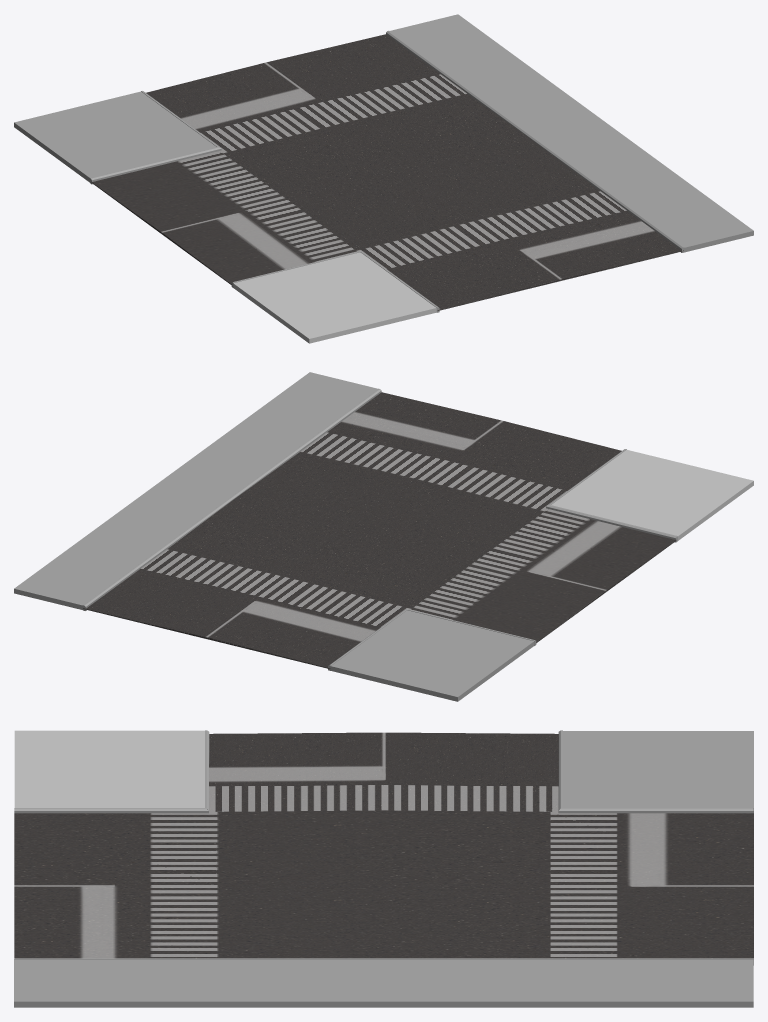
The model's file is t intersection.fbx.
3 renders of one model, top to bottom at view 1: azimuth 30°, elevation 25°; view 2: azimuth 150°, elevation 25°; view 3: azimuth 270°, elevation 25°, orthographic. The views are drawn at different scales.
Parts seen in each view (by area): view 1: Road, side_walk6 (×2), straight_road_segment:side_walk5, Road5, straight_road_segment:curb, curb1; view 2: Road, side_walk6 (×2), straight_road_segment:side_walk5, Road5, straight_road_segment:curb, curb; view 3: Road, straight_road_segment:side_walk5, side_walk6 (×2), Road5, straight_road_segment:curb, curb, curb1.
Boxes of the visible parts, left/top/right/bottom form: Road: left=146, top=34, right=683, bottom=310; side_walk6 (×2): left=14, top=91, right=436, bottom=343; straight_road_segment:side_walk5: left=390, top=14, right=753, bottom=252; Road5: left=91, top=151, right=356, bottom=284; straight_road_segment:curb: left=386, top=30, right=684, bottom=252; curb1: left=90, top=147, right=221, bottom=184; Road: left=83, top=392, right=621, bottom=668; side_walk6 (×2): left=330, top=450, right=753, bottom=701; straight_road_segment:side_walk5: left=14, top=372, right=378, bottom=609; Road5: left=411, top=509, right=676, bottom=643; straight_road_segment:curb: left=83, top=389, right=381, bottom=610; curb: left=546, top=505, right=677, bottom=542; Road: left=14, top=810, right=753, bottom=958; straight_road_segment:side_walk5: left=14, top=959, right=753, bottom=1007; side_walk6 (×2): left=14, top=730, right=753, bottom=807; Road5: left=209, top=732, right=558, bottom=811; straight_road_segment:curb: left=14, top=958, right=753, bottom=965; curb: left=559, top=808, right=753, bottom=813; curb1: left=14, top=808, right=208, bottom=813.
Bounding box in the file's own units: 11.45 × 0.1319 × 13.21.
